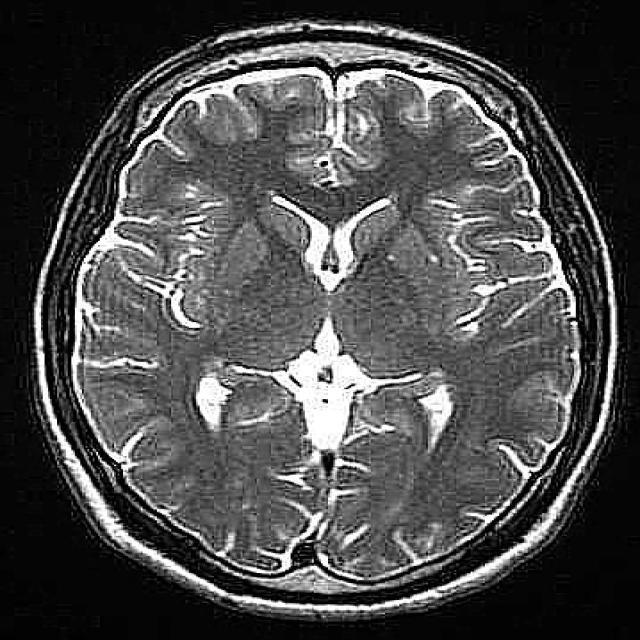notumor: (41, 21, 620, 624)
